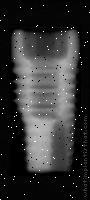Neoss: (10, 28, 81, 176)
